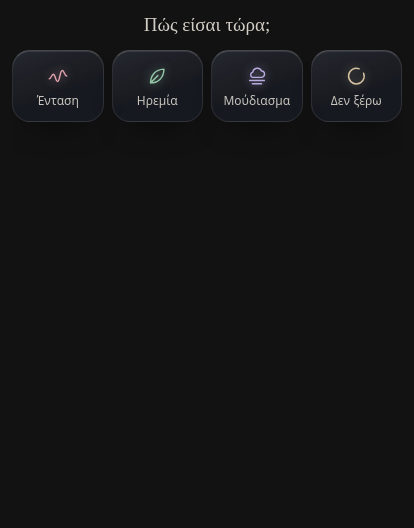
Scenario: «Πώς είσαι τώρα;» after a practice › calm: the axis chapter at its section, to read or to listen, and nothing is kept
Click the button "Ηρεμία" at (157, 86), box [112,50,203,122]
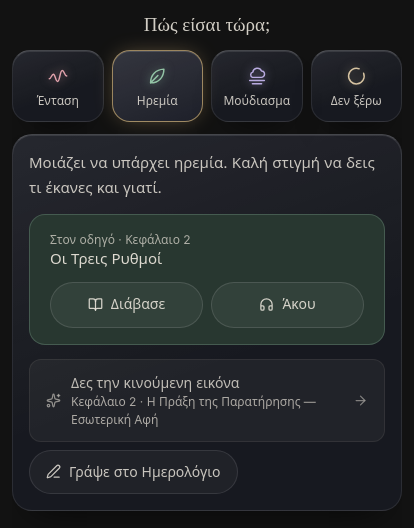
Check: the link "Γράψε στο Ημερολόγιο" is shown, box [29,450,238,494]
